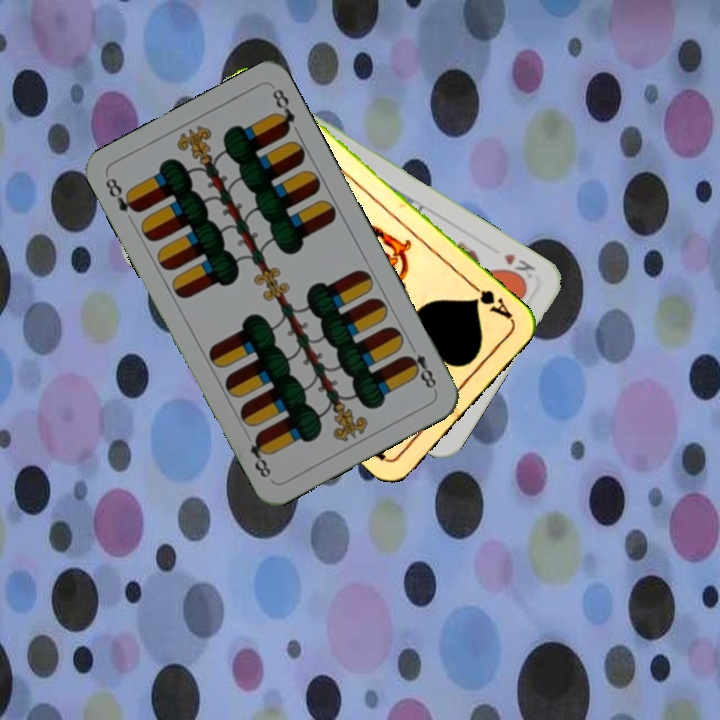E8: (401, 339, 439, 394), (101, 173, 143, 216)
GA: (466, 278, 515, 323)
HK: (498, 249, 538, 286)
